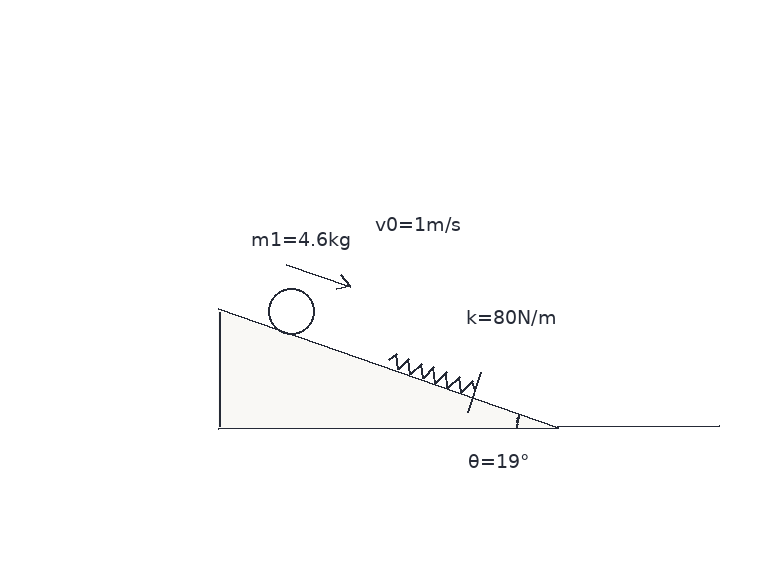ball: (266, 286, 316, 336)
ramp: (216, 308, 559, 429)
spring: (385, 353, 477, 394)
